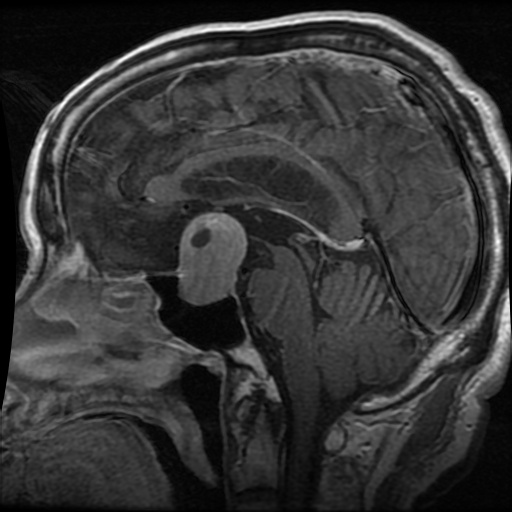pituitary: (177, 211, 247, 304)
